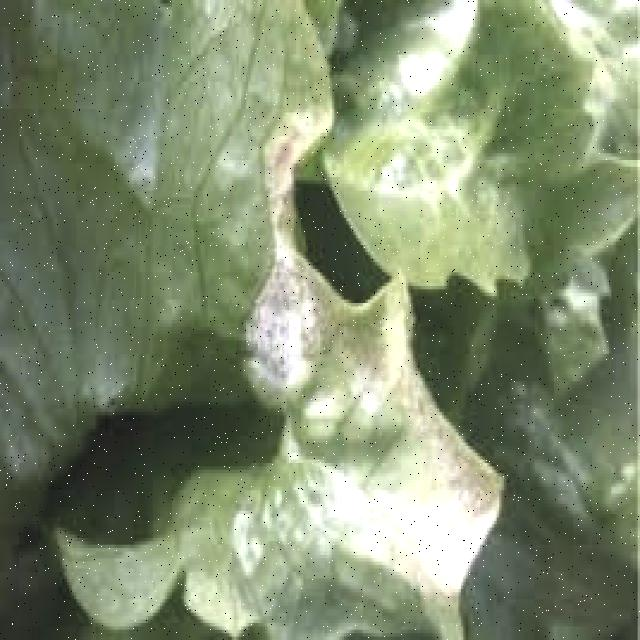Powdery_mildew_on_lettuce: (238, 278, 490, 612)
